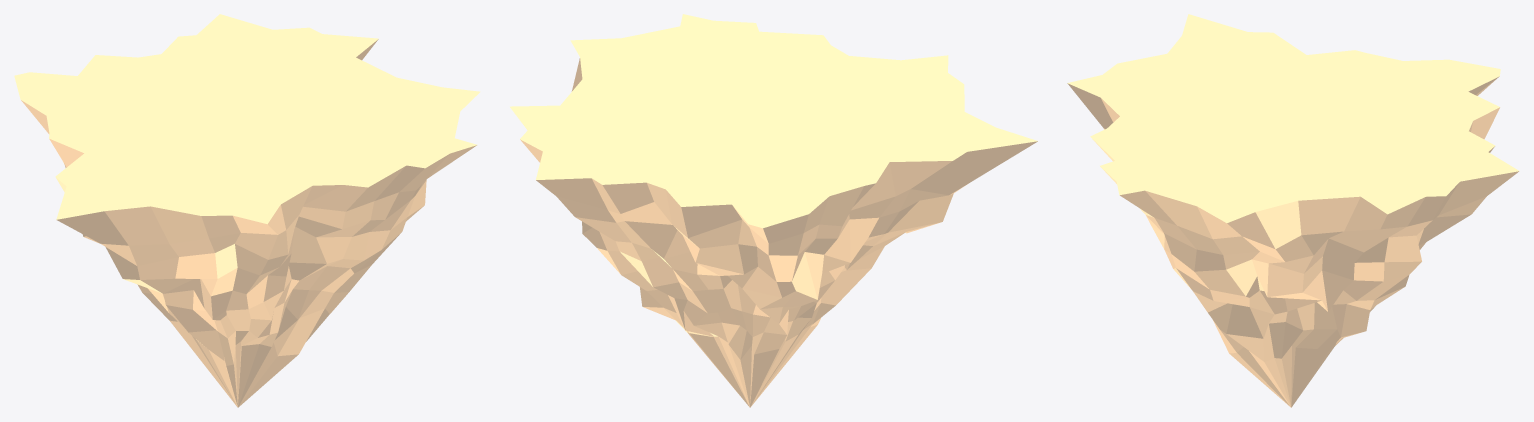
The model's file is floating_island.gltf.
3 renders of one model, left to right at view 1: azimuth 30°, elevation 25°; view 2: azimuth 150°, elevation 25°; view 3: azimuth 270°, elevation 25°, orthographic.
Visible parts, largest first — view 1: Cube; view 2: Cube; view 3: Cube.
Part boxes in pixels (<box>): Cube: <box>14,14,480,407</box>; Cube: <box>510,14,1037,407</box>; Cube: <box>1067,14,1519,407</box>.
Bounding box in the file's own units: 283 × 176 × 251.
